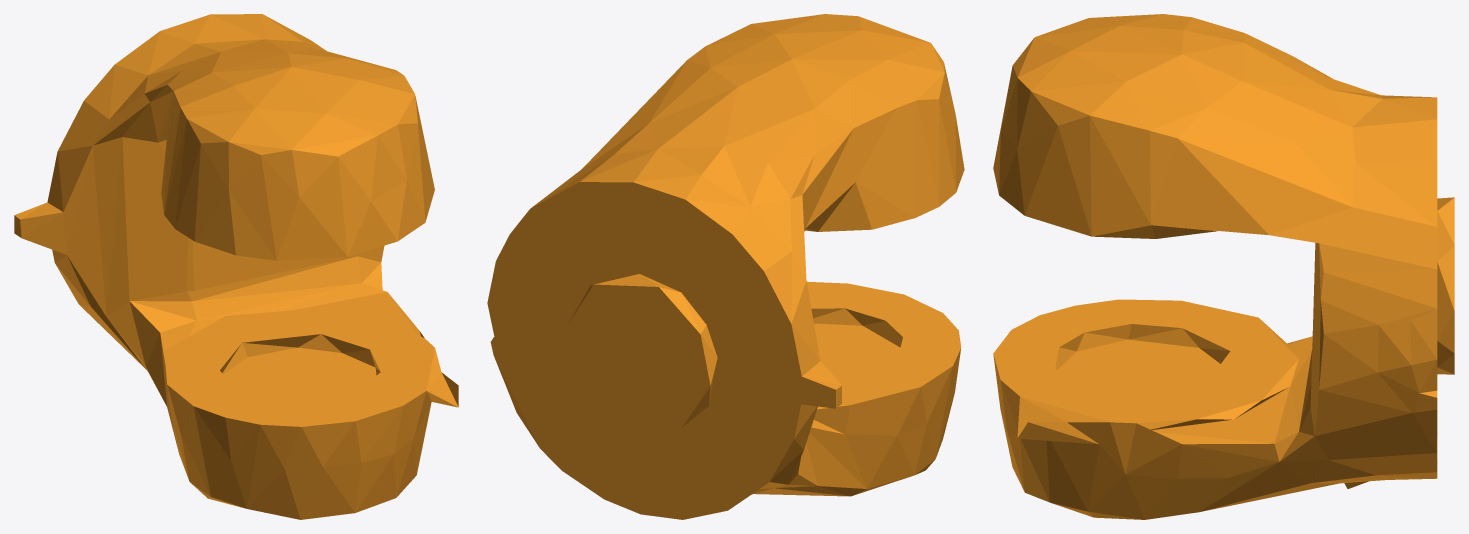
The model's file is KukaKR6R700CRLink1.dae.
The picture shows the model from 3 angles, left to right: view 1: azimuth 30°, elevation 25°; view 2: azimuth 150°, elevation 25°; view 3: azimuth 270°, elevation 25°; orthographic projection. The views are drawn at different scales.
Parts seen in each view (by area): view 1: KukaKR6R700CRLink1; view 2: KukaKR6R700CRLink1; view 3: KukaKR6R700CRLink1.
Boxes of the visible parts, box(x1,y1,x2,y2) form: KukaKR6R700CRLink1: box(14, 14, 458, 519); KukaKR6R700CRLink1: box(487, 14, 964, 519); KukaKR6R700CRLink1: box(993, 14, 1454, 519).
Size of the model in its own units: 0.2443 by 0.2655 by 0.2738.
